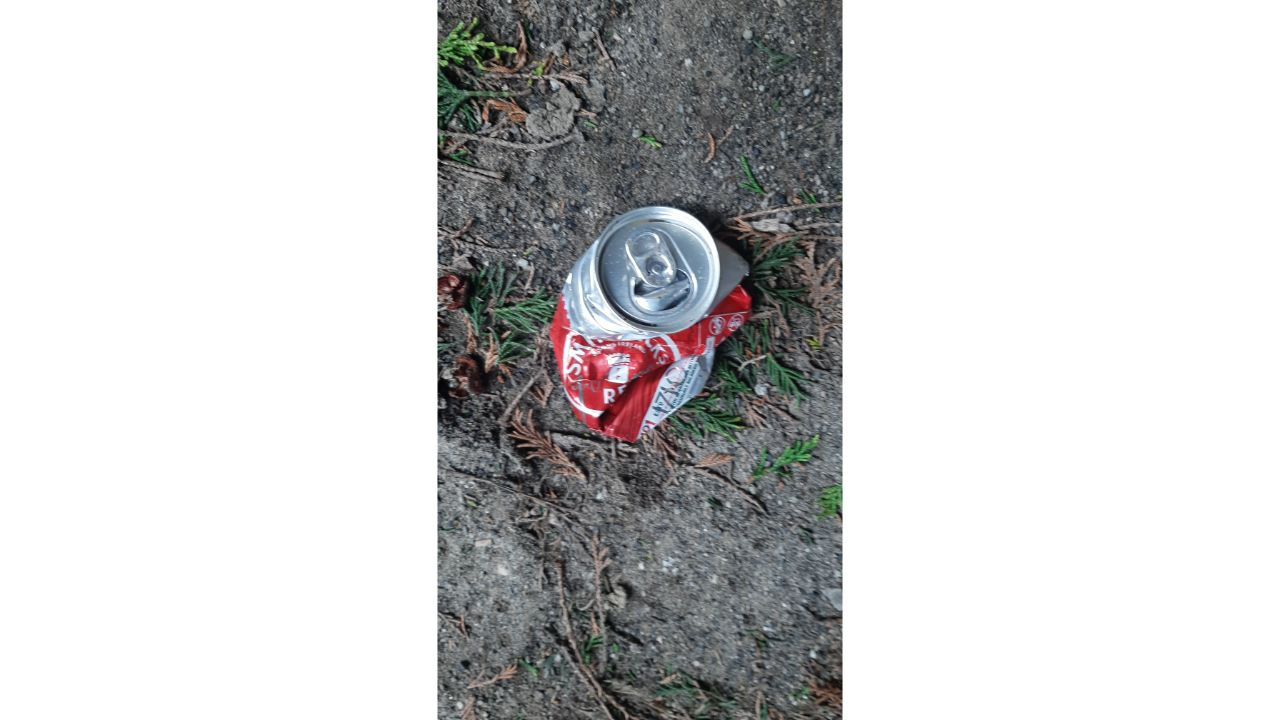Can: (549, 205, 751, 443)
